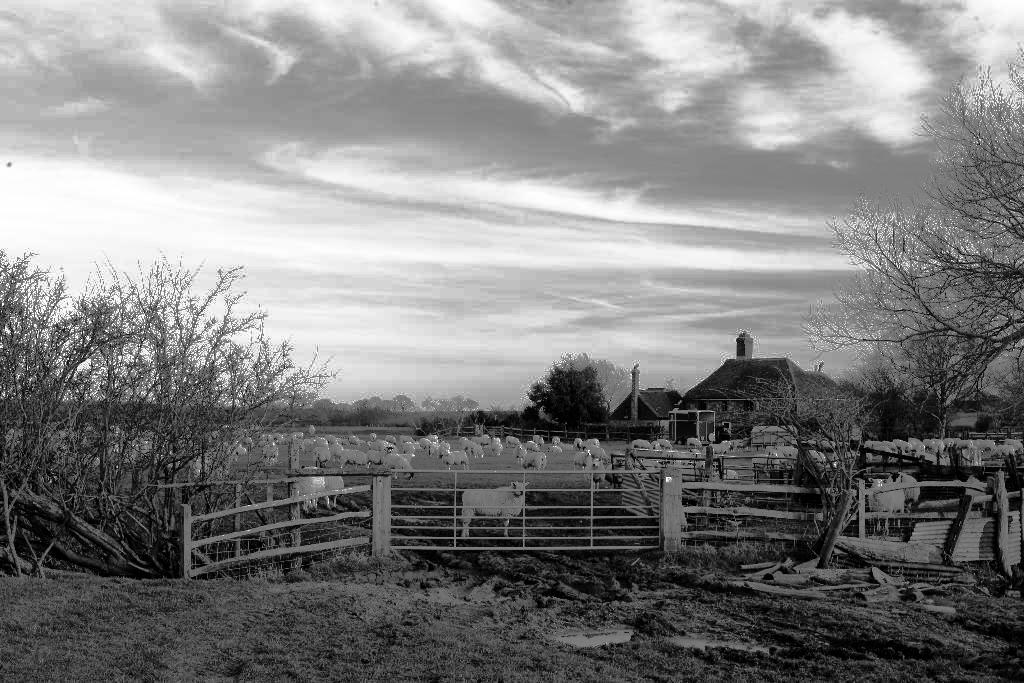Sheep: (462, 483, 527, 540), (853, 478, 880, 533), (387, 456, 415, 481), (340, 449, 369, 473), (589, 458, 608, 489), (445, 451, 469, 471), (523, 452, 546, 471), (463, 441, 484, 461), (262, 443, 279, 466), (312, 448, 330, 468), (328, 440, 344, 462), (214, 440, 234, 457), (365, 448, 383, 466), (514, 442, 527, 465), (426, 441, 441, 458), (289, 435, 304, 451), (314, 437, 330, 452), (416, 437, 433, 451), (367, 440, 385, 453), (401, 442, 416, 457), (380, 441, 396, 455), (438, 441, 451, 458), (721, 439, 738, 452), (301, 438, 316, 452), (233, 444, 247, 459), (324, 435, 341, 445), (273, 433, 288, 444), (348, 435, 361, 447), (398, 435, 415, 444), (259, 433, 271, 445), (750, 426, 766, 435), (425, 434, 439, 444), (384, 434, 396, 445), (458, 436, 470, 447), (303, 431, 316, 441), (551, 436, 561, 447), (244, 436, 253, 448), (532, 434, 541, 444), (211, 429, 220, 439), (369, 432, 377, 442), (538, 436, 546, 446)
